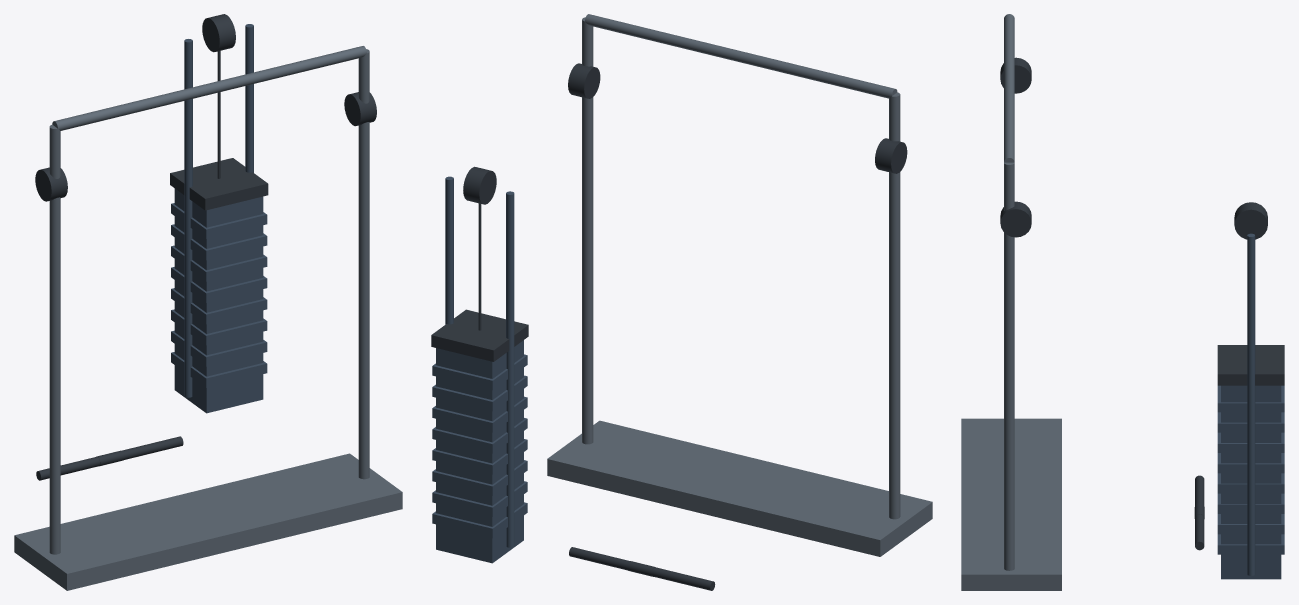
The model's file is functional_trainer.glb.
The picture shows the model from 3 angles, left to right: view 1: azimuth 30°, elevation 25°; view 2: azimuth 150°, elevation 25°; view 3: azimuth 270°, elevation 25°; orthographic projection. The views are drawn at different scales.
Parts seen in each view (by area): view 1: base, stack, cableUpright (×2), weightPlate (×8), guide (×2), crossbar, stackLift, pulley (×2), grip, loadPulley; view 2: base, stack, cableUpright (×2), weightPlate (×8), guide (×2), crossbar, stackLift, pulley (×2), grip, loadPulley; view 3: base, stack, weightPlate (×8), cableUpright, guide, stackLift, crossbar, pulley (×2), loadPulley, grip.
Part boxes in pixels (x1,y1,x2,y2): base: (14, 453, 402, 590); stack: (174, 188, 263, 413); cableUpright (×2): (49, 49, 369, 554); weightPlate (×8): (171, 203, 267, 387); guide (×2): (184, 24, 253, 397); crossbar: (52, 46, 366, 130); stackLift: (170, 158, 268, 210); pulley (×2): (35, 92, 376, 201); grip: (36, 436, 183, 480); loadPulley: (202, 14, 235, 52); base: (547, 420, 932, 556); stack: (436, 340, 523, 563); cableUpright (×2): (582, 17, 900, 519); weightPlate (×8): (432, 354, 527, 538); guide (×2): (445, 176, 514, 547); crossbar: (585, 14, 897, 98); stackLift: (431, 309, 528, 361); pulley (×2): (568, 63, 907, 173); grip: (569, 547, 715, 590); loadPulley: (463, 166, 496, 204); base: (961, 418, 1061, 590); stack: (1221, 385, 1281, 579); weightPlate (×8): (1217, 385, 1284, 554); cableUpright: (1004, 162, 1014, 570); guide: (1247, 233, 1255, 575); stackLift: (1217, 345, 1284, 385); crossbar: (1004, 14, 1014, 162); pulley (×2): (1000, 57, 1031, 237); loadPulley: (1234, 202, 1267, 239); grip: (1195, 475, 1204, 550).
Bounding box in the file's own units: 1.66 × 2.13 × 1.44.
